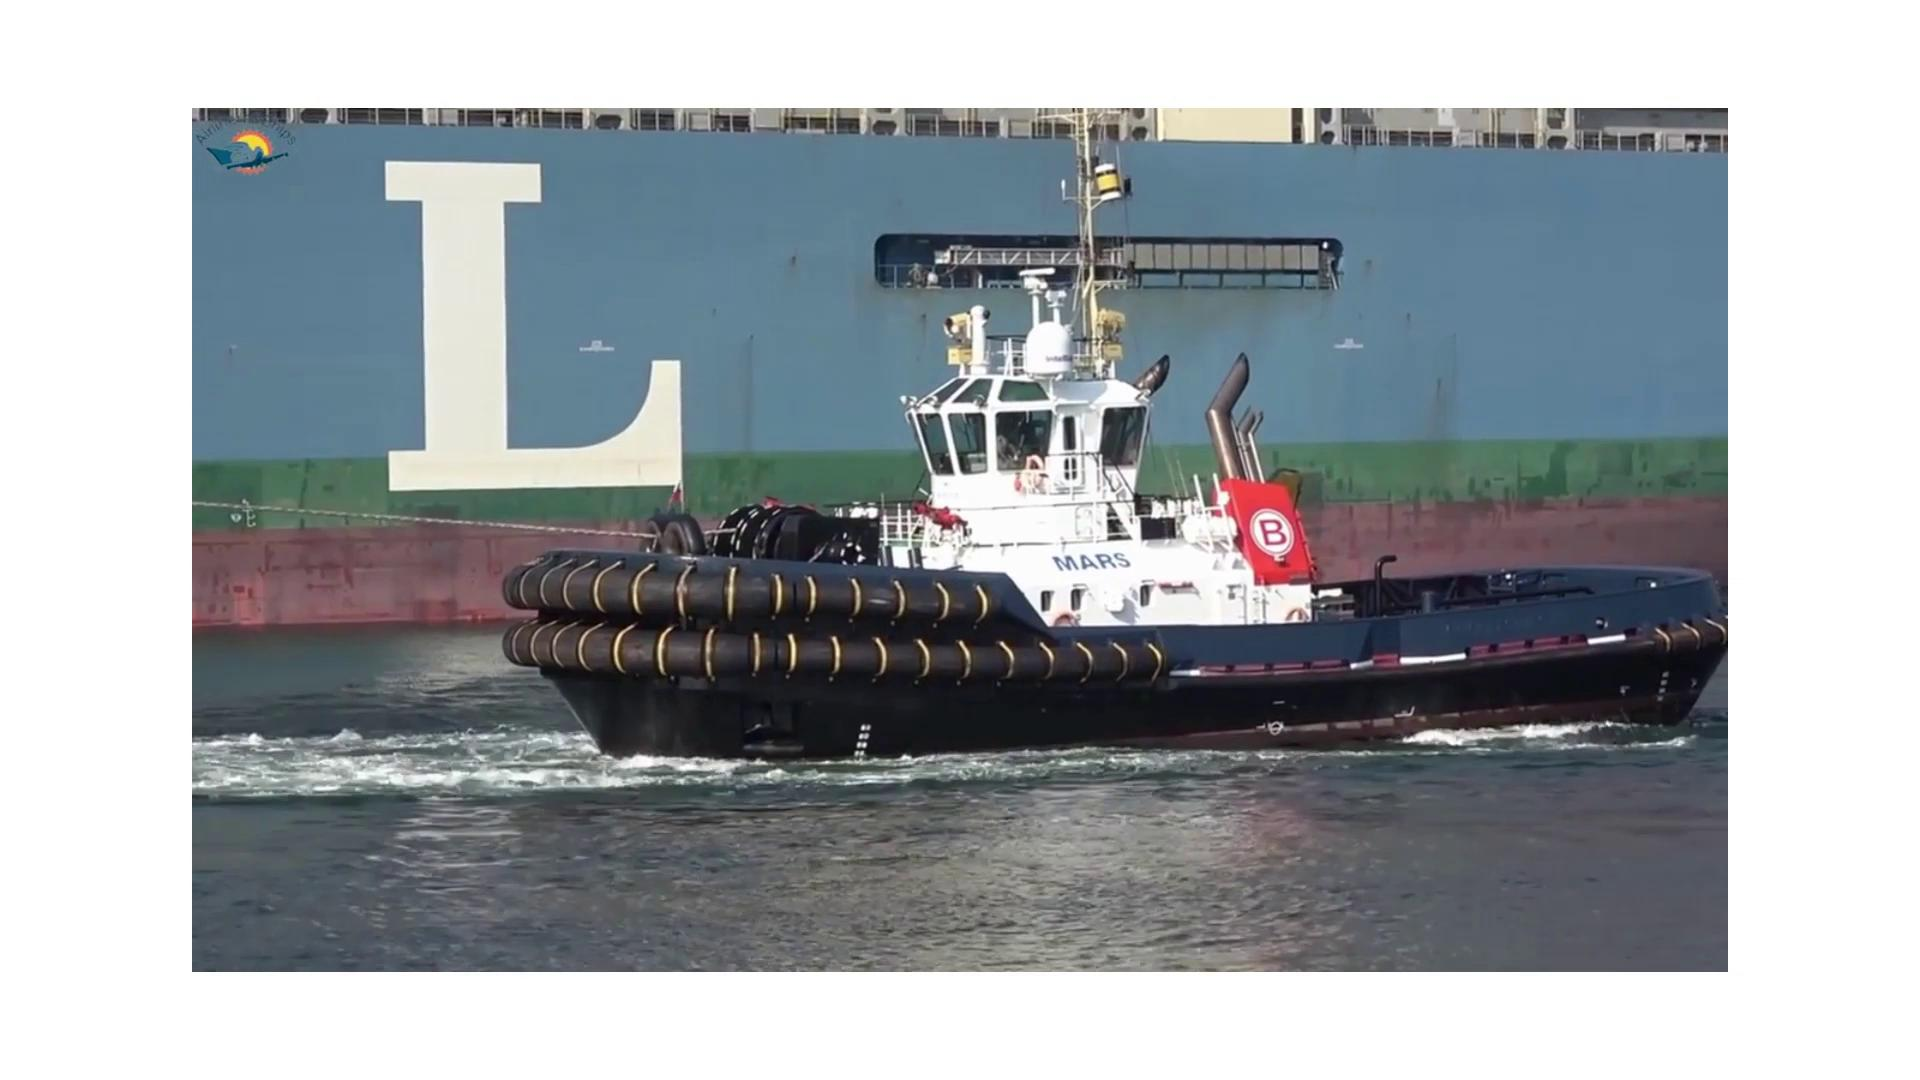OCR: (335, 130, 754, 538)
